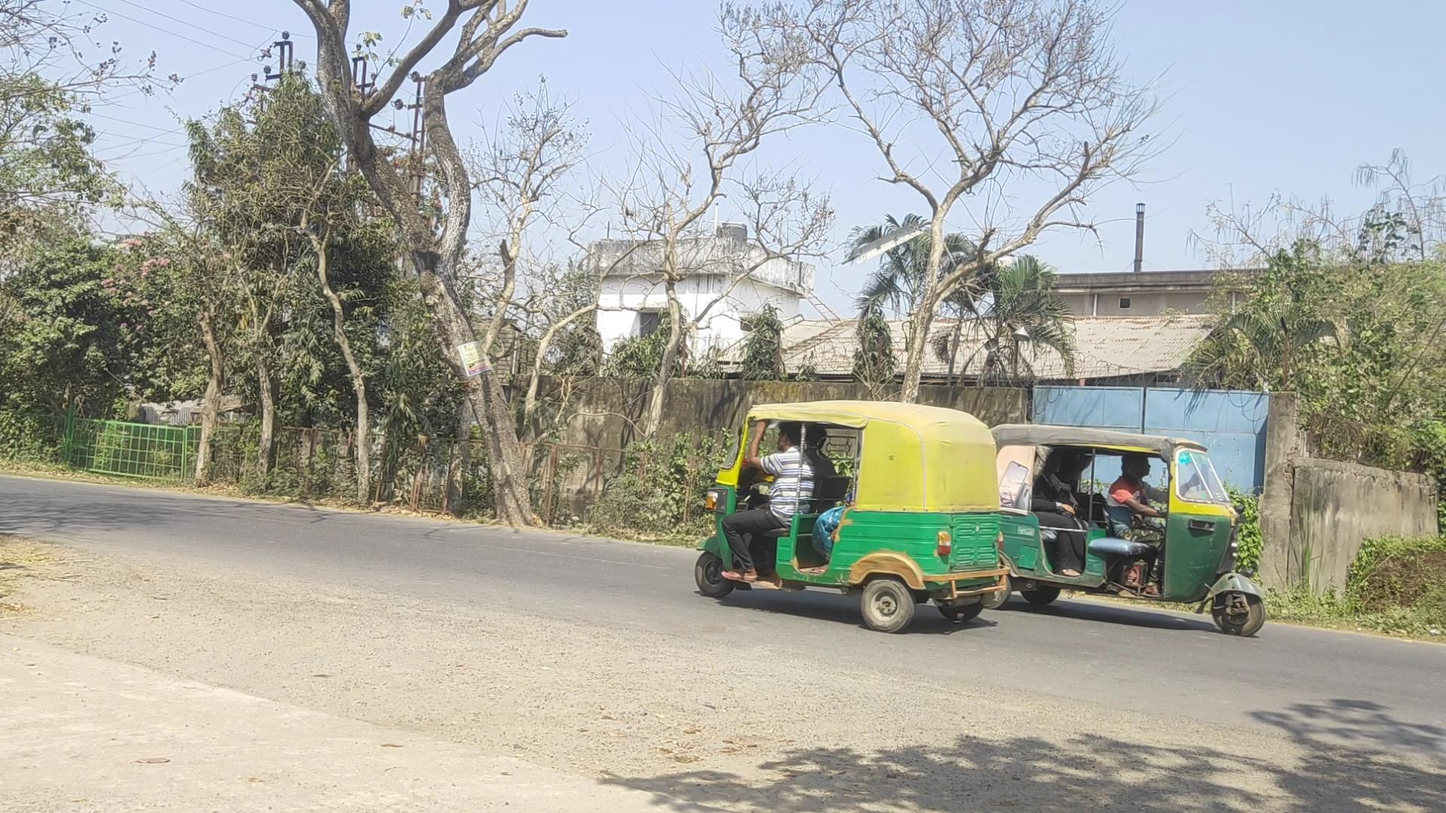Auto: (694, 400, 1010, 632), (974, 424, 1265, 637)
